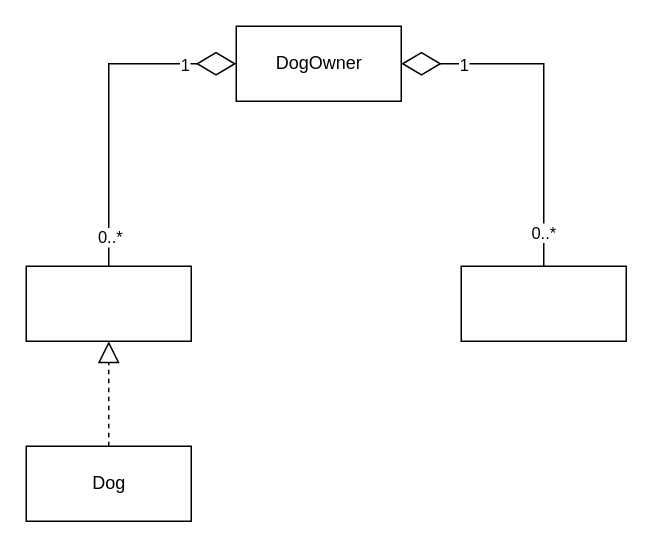
This 653x548 diagram has some shape labels left out. The shapes that lost their labels are listed below. From the top down, each one's centre as x and y in pixels, then its label:
At pixel 108 303: "«interface» IDog".
At pixel 543 303: "Food".
